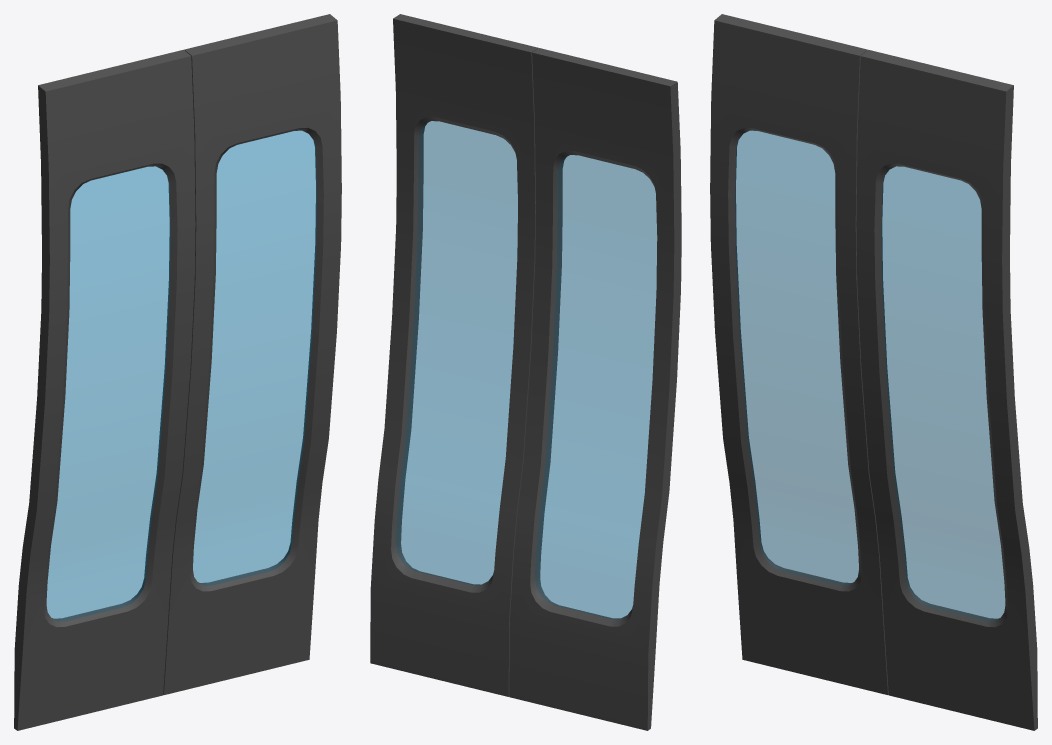
File: MESH_Duo_Swingg_door_metro_01.fbx
3 renders of one model, left to right at view 1: azimuth 30°, elevation 25°; view 2: azimuth 150°, elevation 25°; view 3: azimuth 330°, elevation 25°, orthographic. The views are drawn at different scales.
Parts seen in each view (by area): view 1: Duo Porte Ouvrante Avant metro; view 2: Duo Porte Ouvrante Avant metro; view 3: Duo Porte Ouvrante Avant metro.
Boxes of the visible parts, x1,y1,x2,y2 form: Duo Porte Ouvrante Avant metro: (14, 14, 341, 730); Duo Porte Ouvrante Avant metro: (370, 14, 681, 730); Duo Porte Ouvrante Avant metro: (710, 14, 1037, 730).
Bounding box in the file's own units: 130 × 27.64 × 281.
